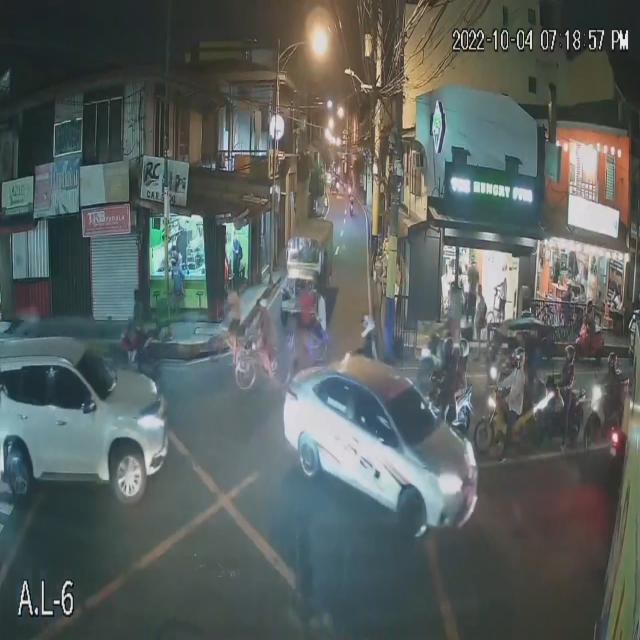Full-Faced: (359, 308, 376, 337), (602, 350, 618, 375), (512, 344, 526, 370), (563, 342, 576, 365), (442, 338, 454, 362), (459, 336, 470, 361)
